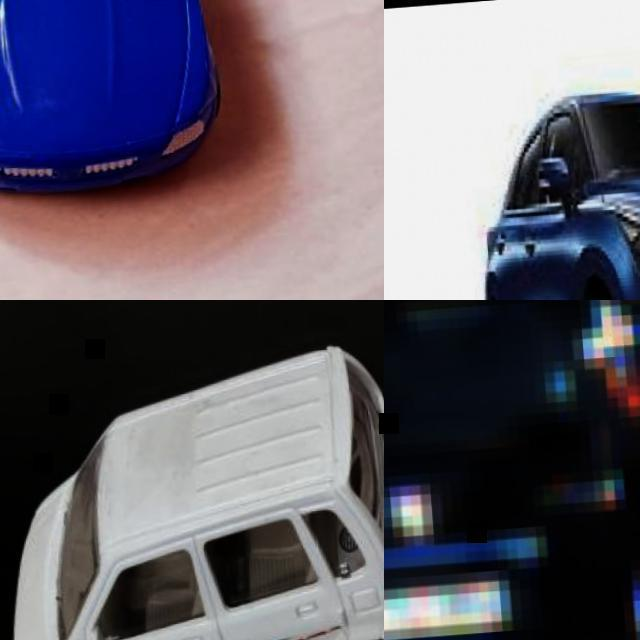car: (16, 344, 384, 639), (486, 75, 639, 308)
